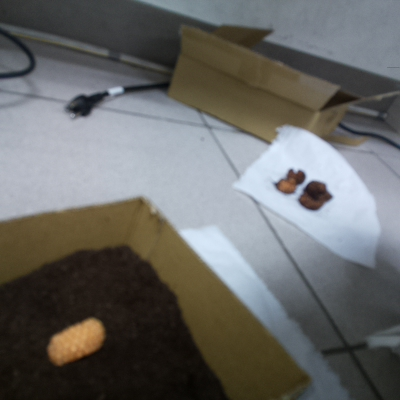eggs: (39, 312, 109, 369)
